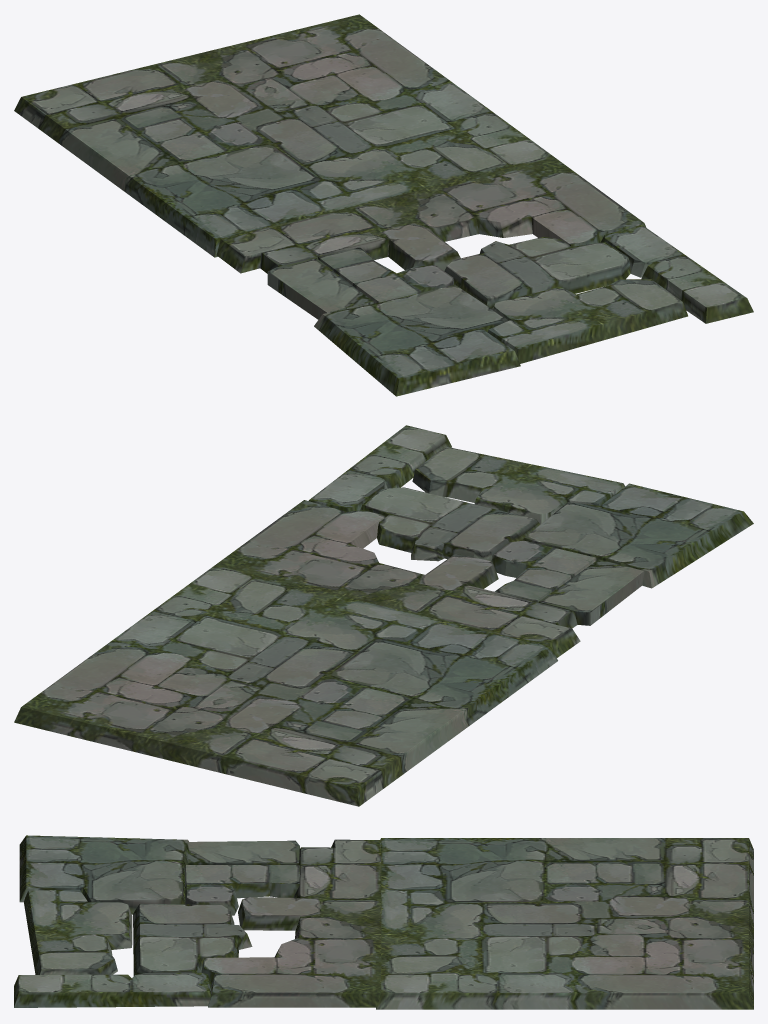
The model's file is 2_YiZhan_DiBiaoShiBan_01.FBX.
The picture shows the model from 3 angles, top to bottom: view 1: azimuth 30°, elevation 25°; view 2: azimuth 150°, elevation 25°; view 3: azimuth 270°, elevation 25°; orthographic projection. The views are drawn at different scales.
Visible parts, largest first — view 1: 2_YiZhan_DiBiaoShiBan_01, 2_YiZhan_DiBiaoShiBan_02, 2_YiZhan_DiBiaoShiBan_06, 2_YiZhan_DiBiaoShiBan_05, 2_YiZhan_DiBiaoShiBan_04, 2_YiZhan_DiBiaoShiBan_03, 2_YiZhan_DiBiaoShiBan_07, 2_YiZhan_DiBiaoShiBan_08; view 2: 2_YiZhan_DiBiaoShiBan_01, 2_YiZhan_DiBiaoShiBan_02, 2_YiZhan_DiBiaoShiBan_06, 2_YiZhan_DiBiaoShiBan_05, 2_YiZhan_DiBiaoShiBan_04, 2_YiZhan_DiBiaoShiBan_03, 2_YiZhan_DiBiaoShiBan_07, 2_YiZhan_DiBiaoShiBan_08; view 3: 2_YiZhan_DiBiaoShiBan_01, 2_YiZhan_DiBiaoShiBan_02, 2_YiZhan_DiBiaoShiBan_06, 2_YiZhan_DiBiaoShiBan_05, 2_YiZhan_DiBiaoShiBan_04, 2_YiZhan_DiBiaoShiBan_03, 2_YiZhan_DiBiaoShiBan_07, 2_YiZhan_DiBiaoShiBan_08.
Part boxes in pixels (<box>): 2_YiZhan_DiBiaoShiBan_01: <box>14,14,554,257</box>; 2_YiZhan_DiBiaoShiBan_02: <box>216,157,646,273</box>; 2_YiZhan_DiBiaoShiBan_06: <box>314,285,520,396</box>; 2_YiZhan_DiBiaoShiBan_05: <box>487,279,687,363</box>; 2_YiZhan_DiBiaoShiBan_04: <box>444,236,630,309</box>; 2_YiZhan_DiBiaoShiBan_03: <box>600,224,753,323</box>; 2_YiZhan_DiBiaoShiBan_07: <box>318,247,455,303</box>; 2_YiZhan_DiBiaoShiBan_08: <box>267,258,373,319</box>; 2_YiZhan_DiBiaoShiBan_01: <box>14,565,557,806</box>; 2_YiZhan_DiBiaoShiBan_02: <box>215,500,580,657</box>; 2_YiZhan_DiBiaoShiBan_06: <box>523,483,753,588</box>; 2_YiZhan_DiBiaoShiBan_05: <box>412,446,624,524</box>; 2_YiZhan_DiBiaoShiBan_04: <box>360,487,539,561</box>; 2_YiZhan_DiBiaoShiBan_03: <box>308,425,451,511</box>; 2_YiZhan_DiBiaoShiBan_07: <box>491,540,596,602</box>; 2_YiZhan_DiBiaoShiBan_08: <box>538,559,644,625</box>; 2_YiZhan_DiBiaoShiBan_01: <box>376,838,753,1009</box>; 2_YiZhan_DiBiaoShiBan_02: <box>201,839,381,1007</box>; 2_YiZhan_DiBiaoShiBan_06: <box>19,835,188,914</box>; 2_YiZhan_DiBiaoShiBan_05: <box>24,889,132,974</box>; 2_YiZhan_DiBiaoShiBan_04: <box>133,903,252,975</box>; 2_YiZhan_DiBiaoShiBan_03: <box>14,972,211,1007</box>; 2_YiZhan_DiBiaoShiBan_07: <box>185,865,300,915</box>; 2_YiZhan_DiBiaoShiBan_08: <box>188,840,299,864</box>.
Bounding box in the file's own units: 525 × 20.8 × 1005.
Materials: 1 (1 with a texture image).
